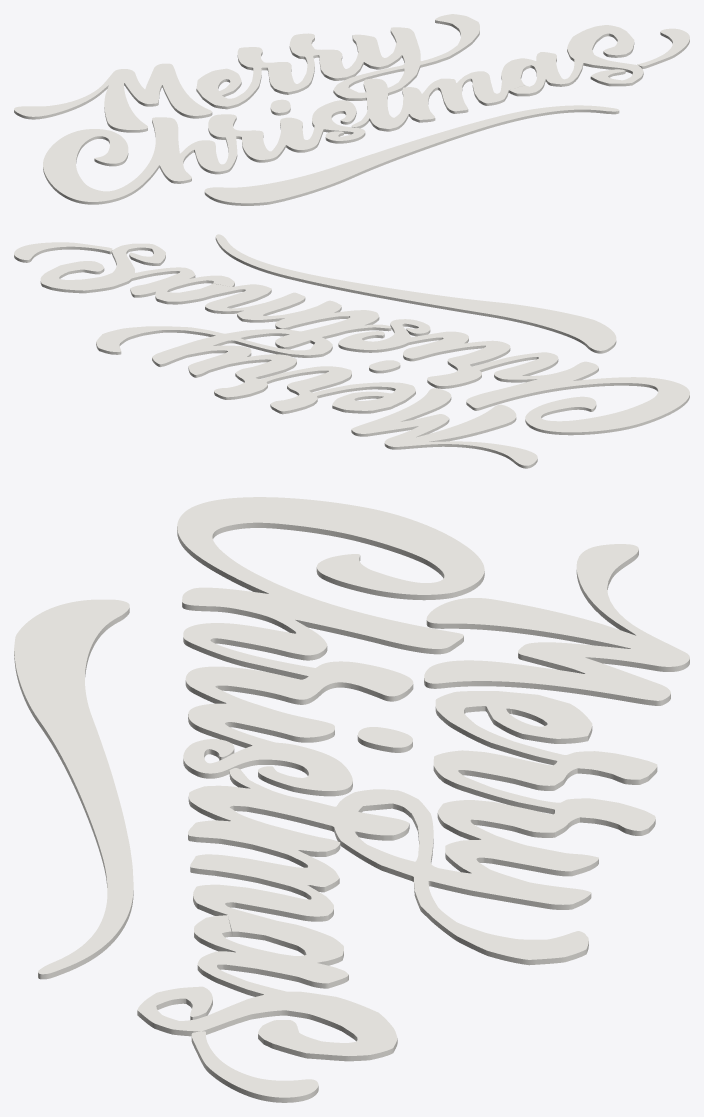
File: stylist_text.gltf
3 views of the same model, one above another, from view 1: azimuth 30°, elevation 25°; view 2: azimuth 150°, elevation 25°; view 3: azimuth 270°, elevation 25° (orthographic). The views are drawn at different scales.
Visible parts, largest first — view 1: MC Wording; view 2: MC Wording; view 3: MC Wording.
Boxes of the visible parts, <box> form: MC Wording: <box>14,14,689,205</box>; MC Wording: <box>14,234,689,468</box>; MC Wording: <box>14,497,689,1102</box>.
Bounding box in the file's own units: 1.03 × 0.00446 × 0.4903.
Materials: 1 (1 with a texture image).
